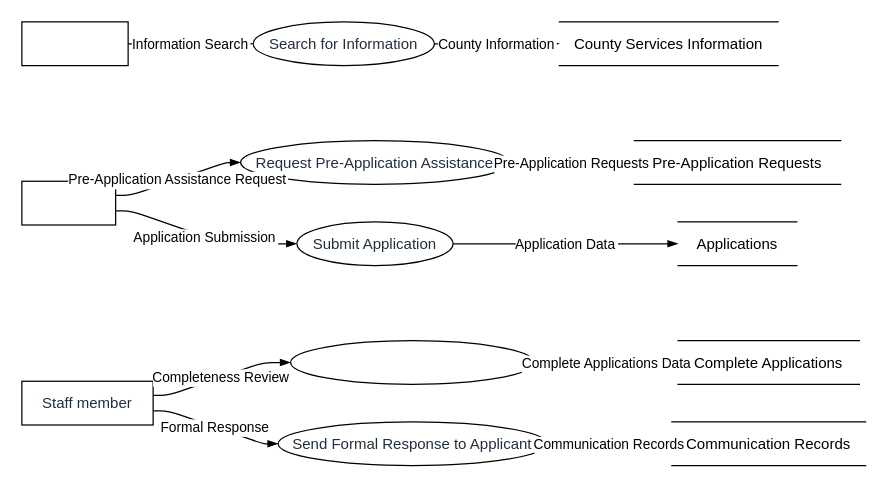
The diagram is 888 pixels wide and 488 high, and some of its shapes have lost their labels. Here are the shapes that lost their labels. From the top down, the centre of each, then its label:
pixel 74 43: Public User
pixel 68 202: Applicant
pixel 411 361: Perform Completeness Review
